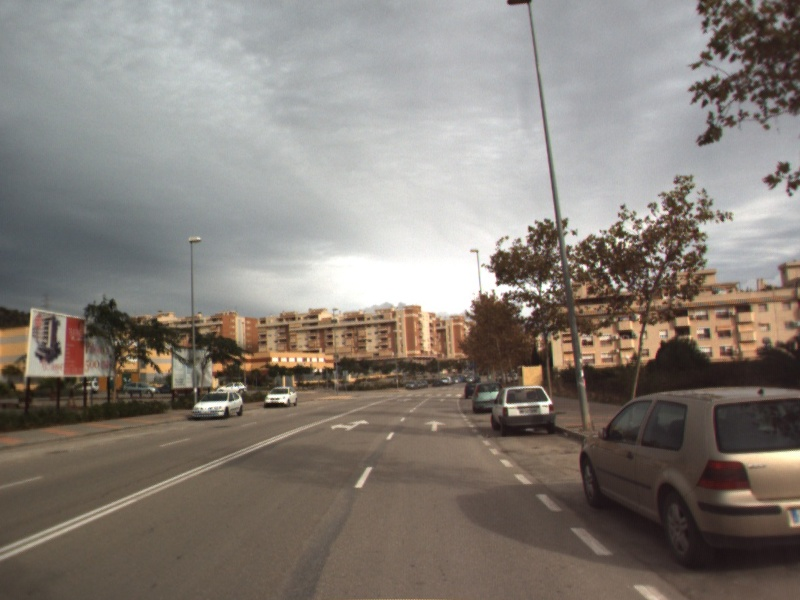STRAIGHT: (423, 418, 448, 433)
STRAIGHT_LEFT: (328, 417, 372, 433)
